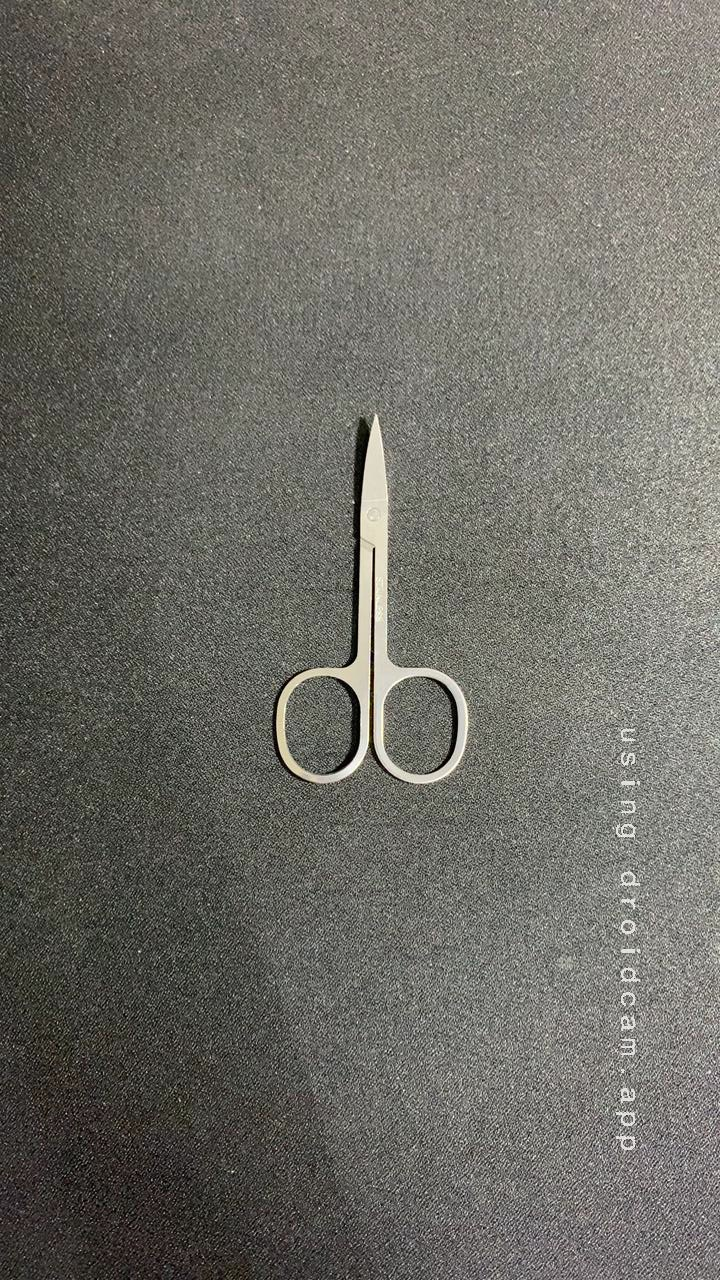scissor: (242, 411, 490, 799)
